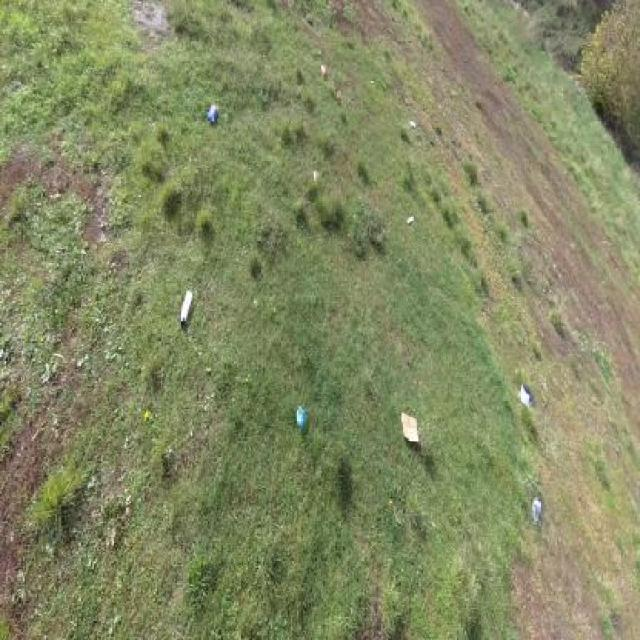Garbage: (400, 412, 419, 442), (178, 289, 193, 326), (518, 383, 530, 408), (295, 404, 306, 430), (206, 105, 218, 127), (532, 498, 540, 528), (405, 213, 415, 226), (319, 64, 328, 77), (408, 119, 416, 129), (314, 169, 318, 184), (370, 79, 375, 85)
